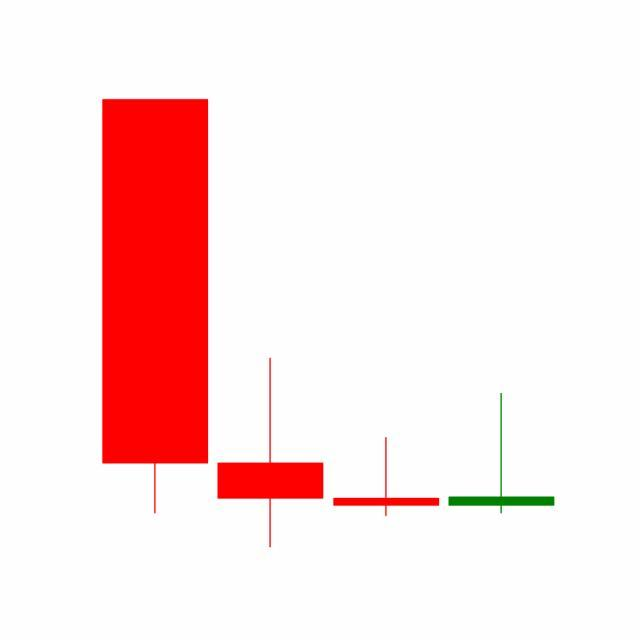Gravestone Doji: (329, 436, 445, 518)
